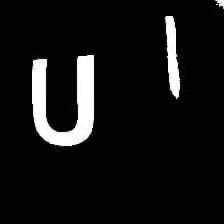LTR_U: (20, 45, 103, 154)
